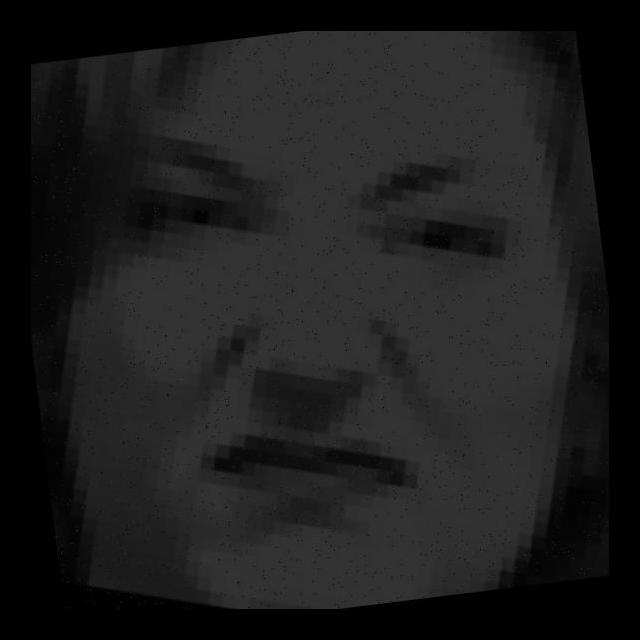Disgust: (76, 66, 574, 578)
